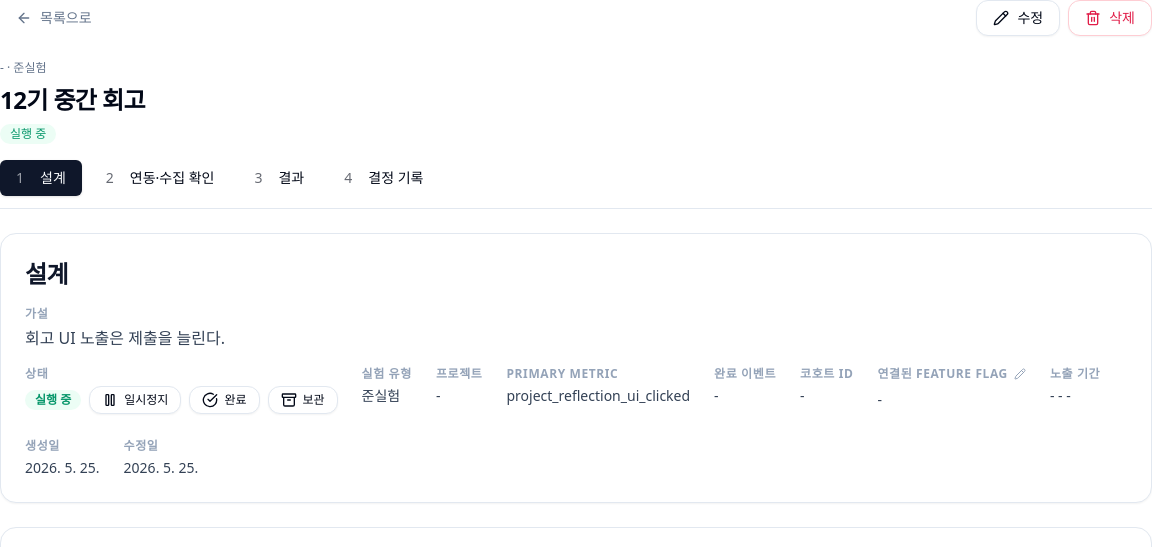
ExperimentDetail placements › keeps edited input and reports save failures in ko
This screenshot has width=1152, height=547.
Step 1. Click the 1st button "수정" → (1018, 18), box [976,0,1060,36]
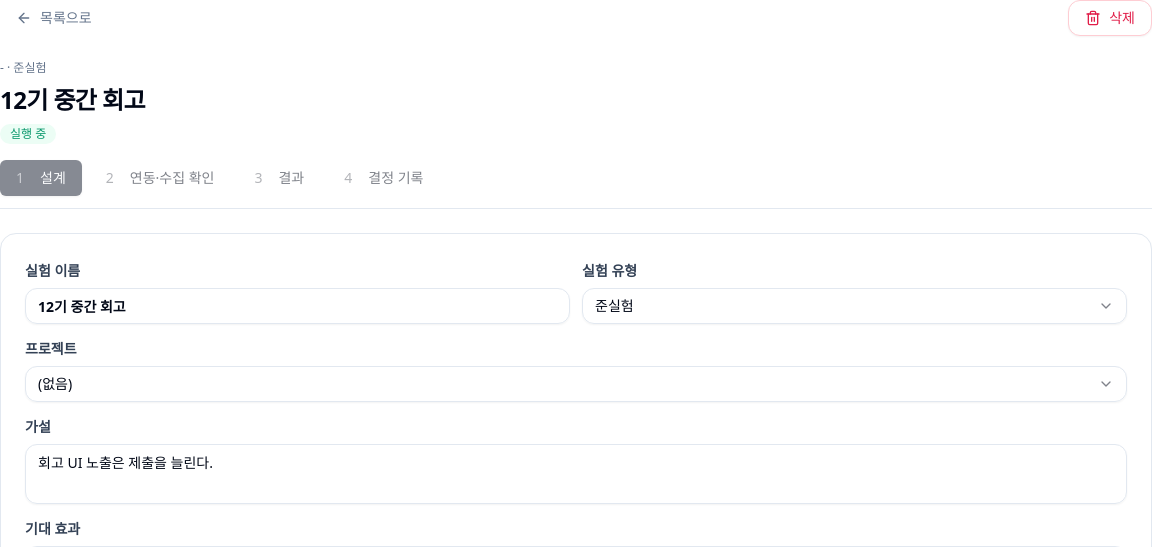
Step 2. Replace the text in the field named "실험 이름" with "Retry name" → (298, 306), box [25,288,570,324]
(page scrolled)
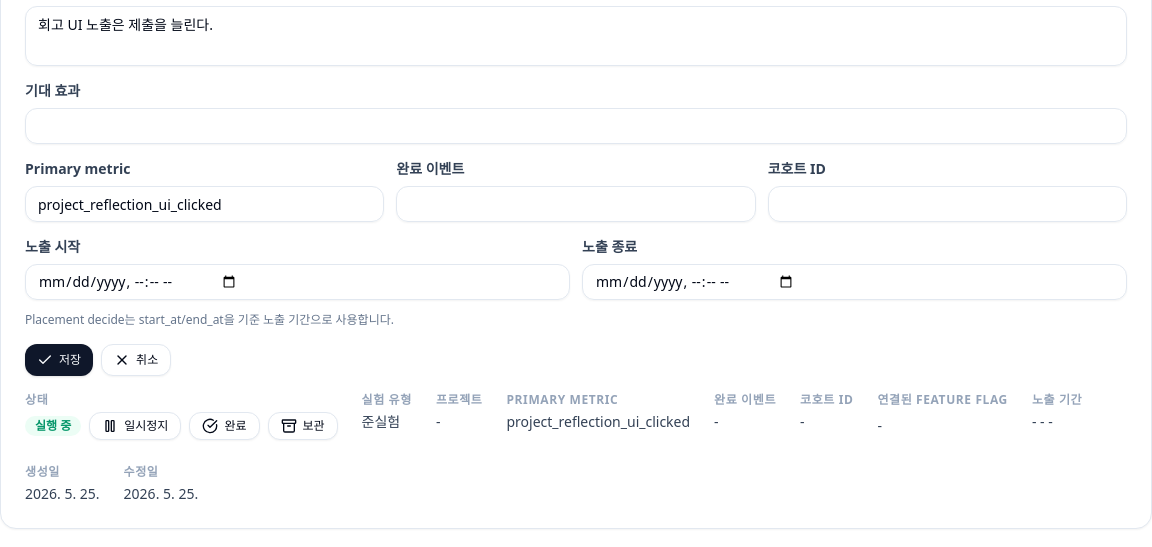
Step 3. Click the button "저장" → (59, 360), box [25,344,93,376]
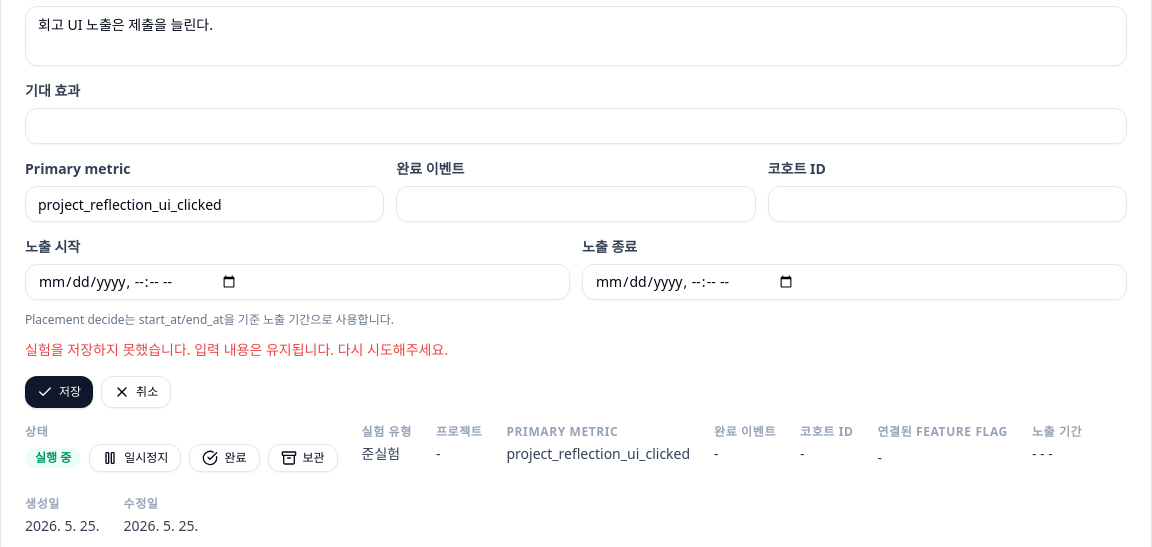
Check: the message shows "입력 내용은 유지됩니다", box [25,340,448,359]
Step 4. Click the button "저장" → (59, 392), box [25,376,93,408]
(page scrolled)
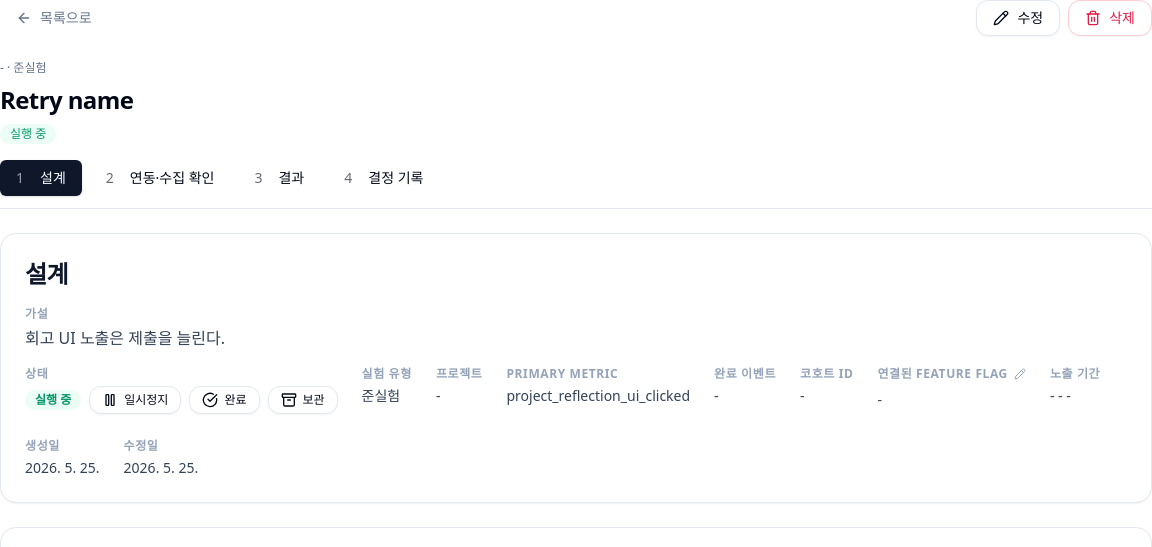
Check: the heading "Retry name" is shown, box [0,83,133,116]
Check: the message "실험을 저장하지 못했습니다. 입력 내용은 유지됩니다. 다시 시도해주세요." is gone
